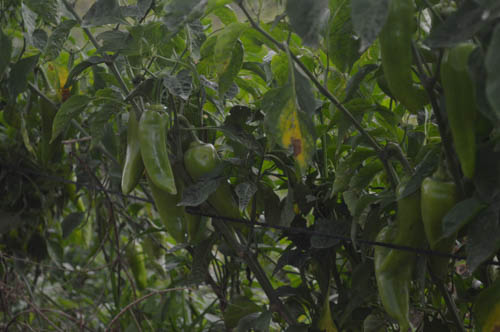ChiliPepper: (441, 42, 480, 177), (190, 145, 240, 225), (382, 9, 418, 110), (380, 179, 416, 274), (378, 231, 412, 317), (420, 179, 456, 256), (145, 111, 172, 194), (120, 114, 142, 197), (125, 245, 150, 288)
